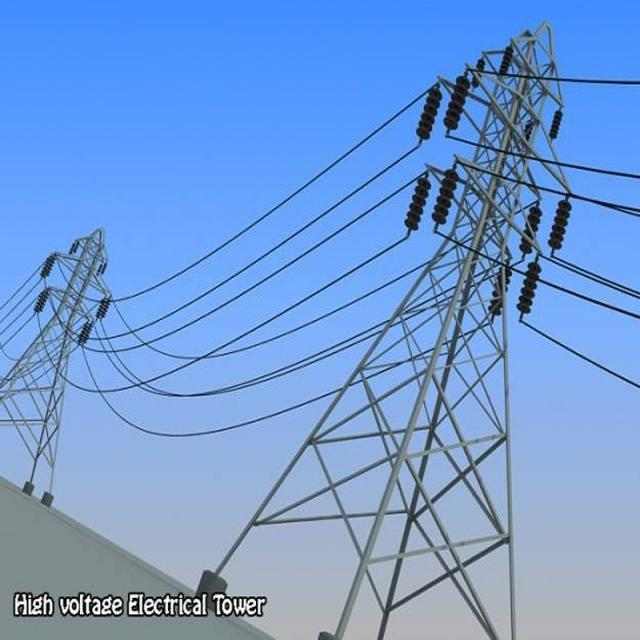non-critical vegetation: (282, 65, 570, 631), (4, 229, 116, 486)
